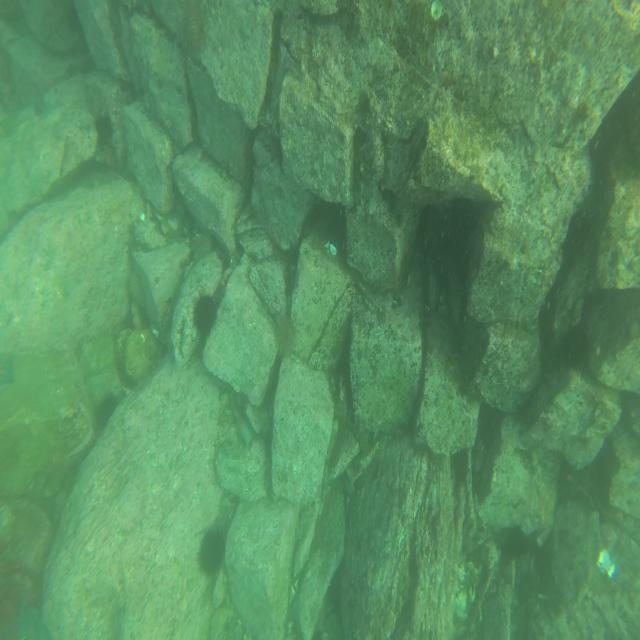echinus: (197, 520, 228, 583), (190, 290, 219, 339), (96, 390, 120, 432), (92, 114, 114, 152)
starfish: (0, 353, 16, 388)
